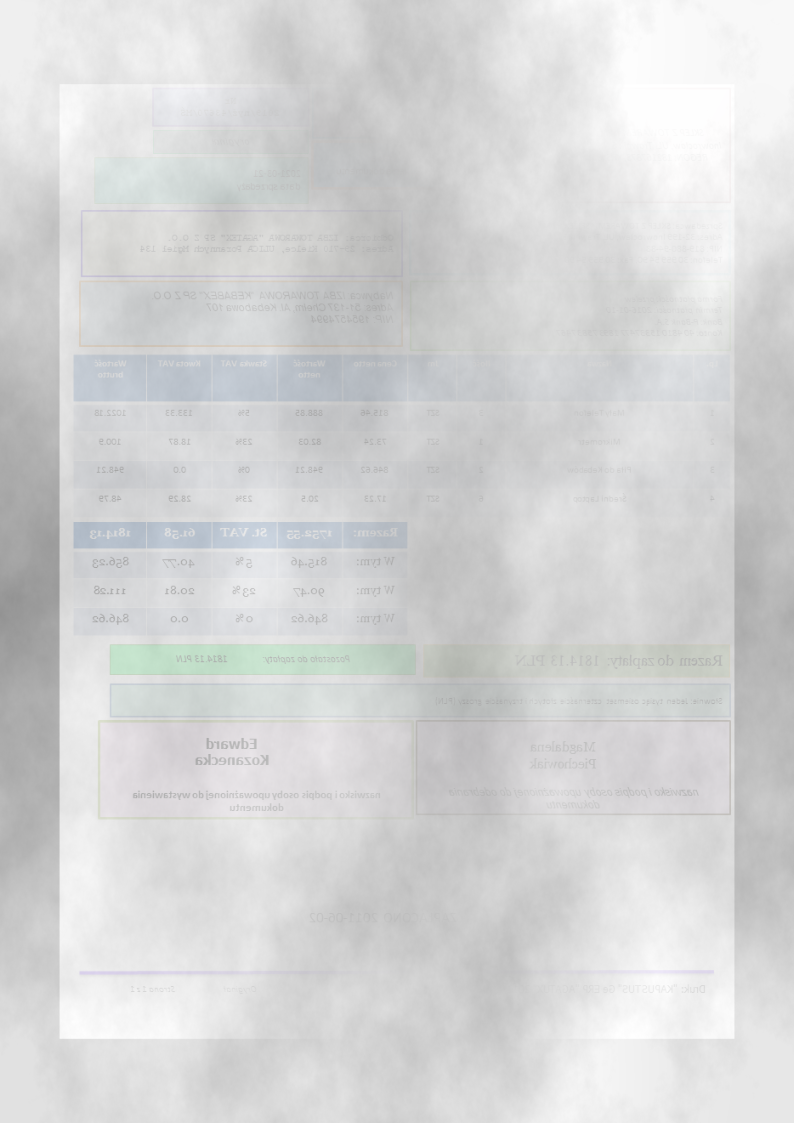Table: (71, 352, 734, 519), (71, 522, 410, 638)
TextBox: (146, 285, 399, 327), (553, 291, 726, 343), (559, 218, 726, 267), (128, 785, 384, 816), (534, 125, 726, 166), (136, 229, 397, 258), (445, 783, 703, 811), (431, 689, 728, 710), (333, 149, 503, 178), (515, 649, 728, 672), (496, 979, 712, 1001), (303, 904, 461, 931), (171, 649, 354, 668), (192, 730, 272, 772), (177, 94, 282, 122), (527, 737, 600, 774), (235, 163, 305, 197), (128, 979, 261, 996), (384, 102, 455, 123), (208, 135, 252, 150)
